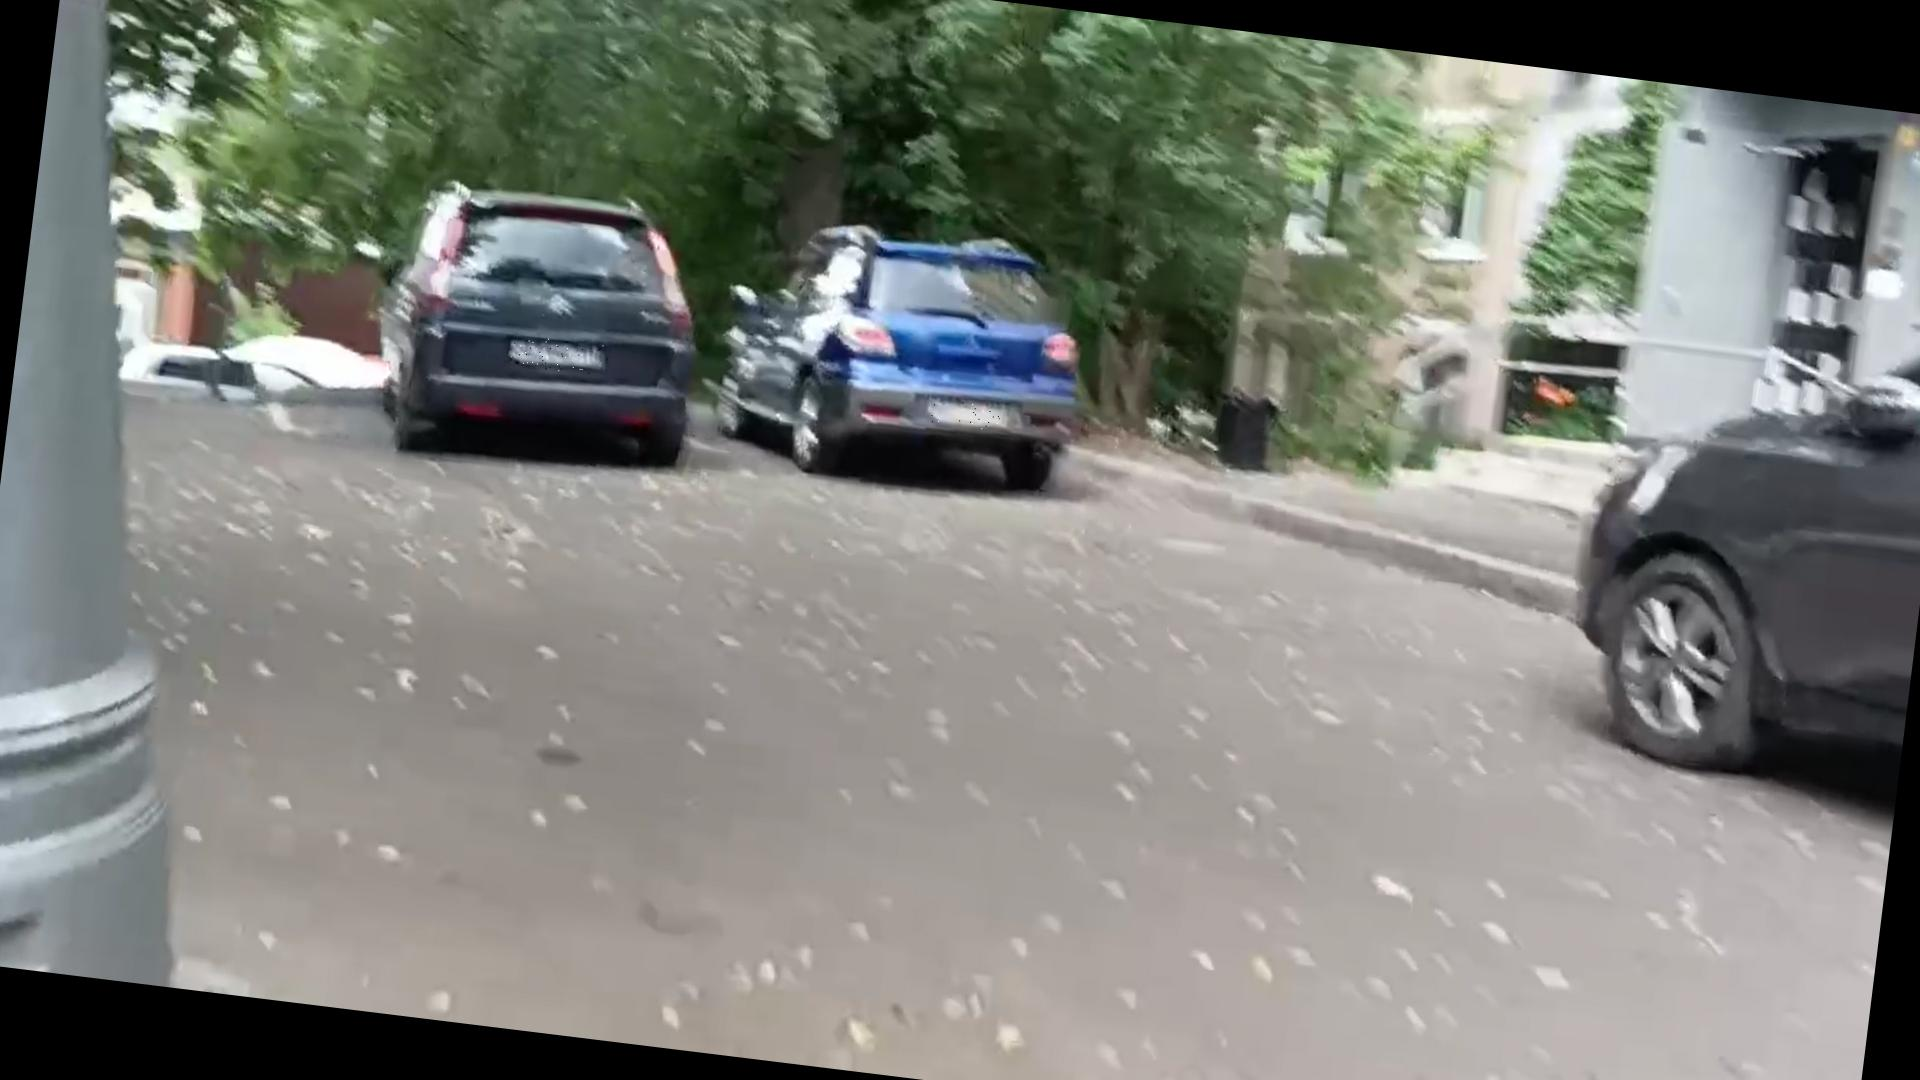plate: (504, 335, 607, 378), (924, 397, 1010, 433)
